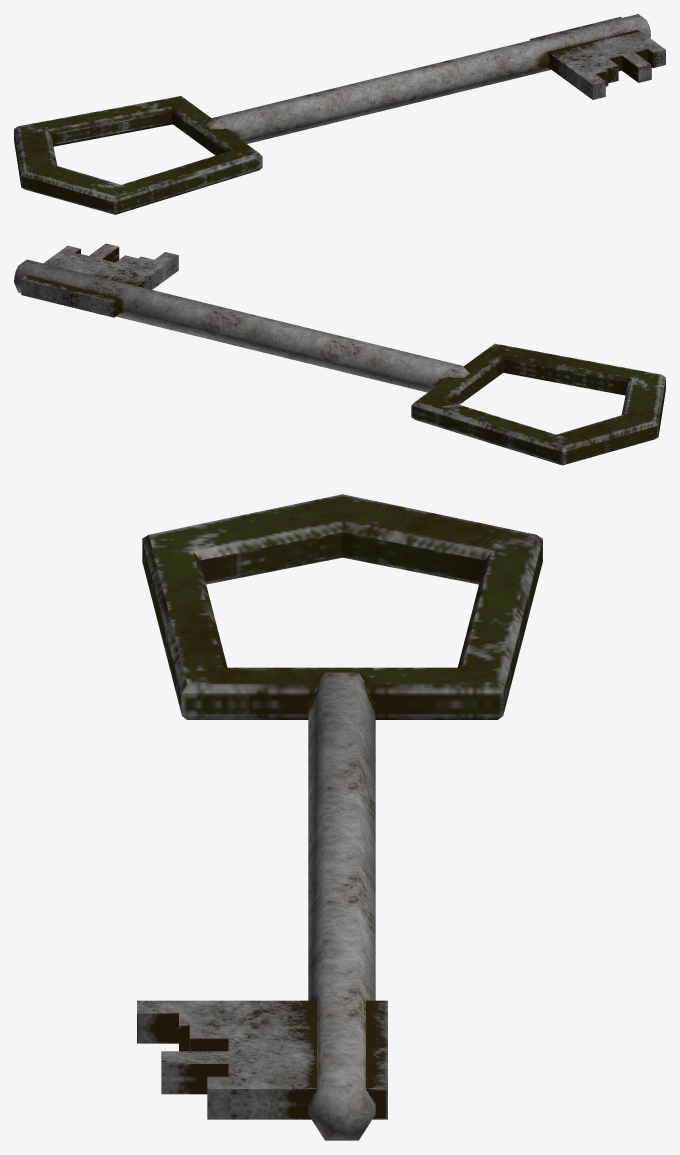
File: Kunci-2.fbx
The picture shows the model from 3 angles, top to bottom: view 1: azimuth 30°, elevation 25°; view 2: azimuth 150°, elevation 25°; view 3: azimuth 270°, elevation 25°; orthographic projection. The views are drawn at different scales.
Visible parts, largest first — view 1: Plane.002, Cylinder.003, Plane.007; view 2: Plane.002, Cylinder.003, Plane.007; view 3: Plane.002, Cylinder.003, Plane.007.
Part boxes in pixels (x1,y1,x2,y2): Plane.002: [14, 96, 262, 214]; Cylinder.003: [205, 14, 650, 143]; Plane.007: [530, 16, 665, 99]; Plane.002: [411, 343, 665, 465]; Cylinder.003: [14, 259, 469, 392]; Plane.007: [21, 243, 178, 317]; Plane.002: [142, 494, 542, 719]; Cylinder.003: [308, 672, 375, 1140]; Plane.007: [137, 1000, 387, 1119].
Size of the model in its own units: 12.91 by 0.5196 by 3.62.
1 material, 1 textured.
